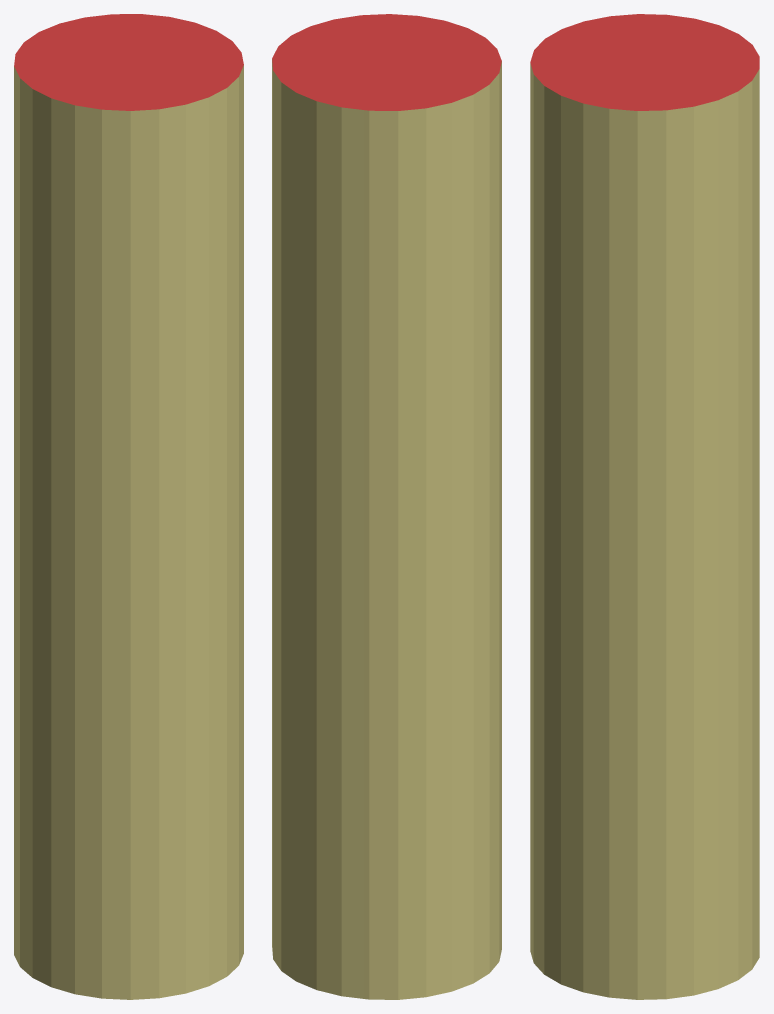
3 renders of one model, left to right at view 1: azimuth 30°, elevation 25°; view 2: azimuth 150°, elevation 25°; view 3: azimuth 270°, elevation 25°, orthographic.
Bounding box in the file's own units: 3.67 × 3.66 × 15.66.
